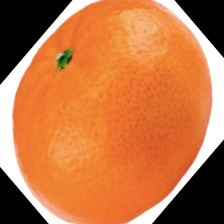orange: (14, 26, 169, 178)
